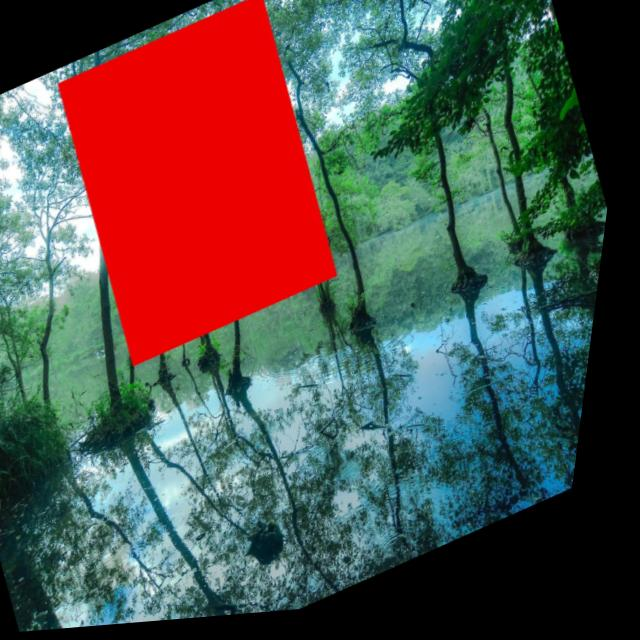RedSquare: (24, 0, 382, 384)
